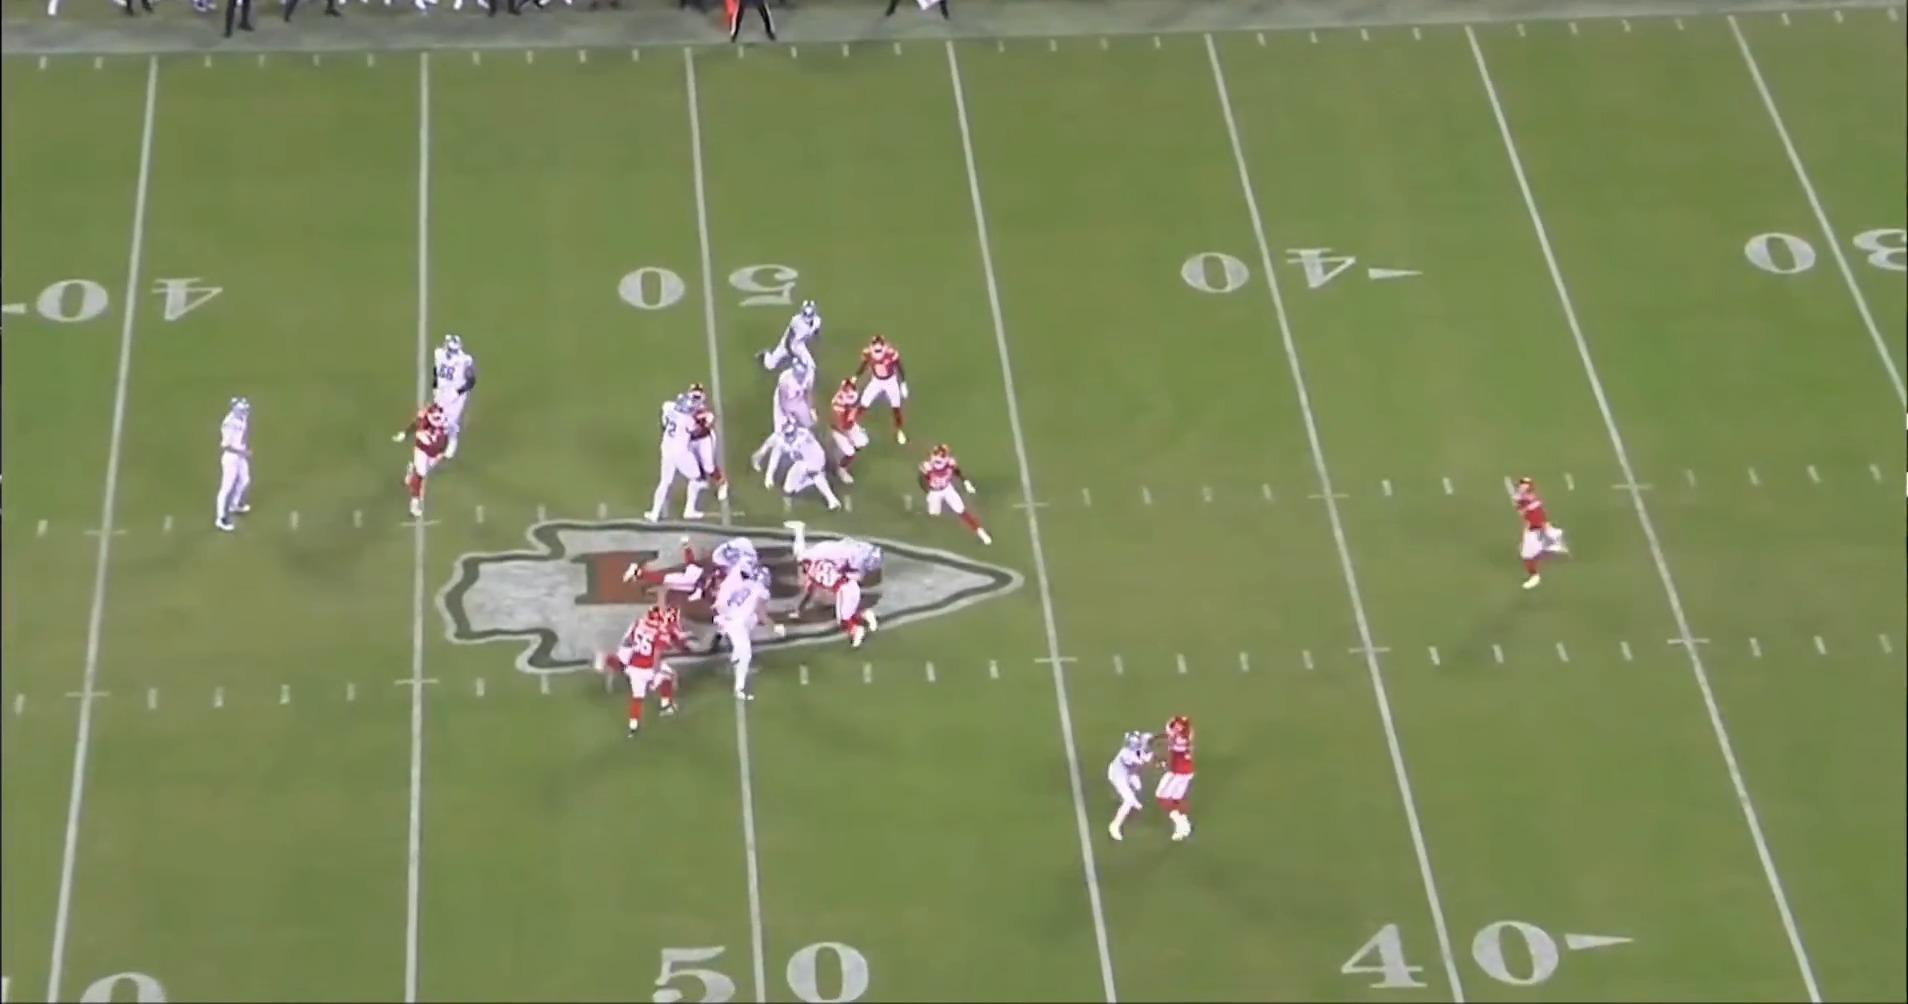player: (642, 395, 721, 531), (719, 561, 786, 707), (609, 614, 684, 739), (703, 535, 782, 652), (665, 383, 738, 505), (920, 441, 1002, 548), (1507, 470, 1573, 596), (769, 419, 846, 523), (750, 358, 819, 474), (1155, 711, 1214, 844), (203, 392, 255, 538), (842, 331, 906, 448), (1095, 726, 1157, 845), (398, 400, 455, 525), (823, 539, 884, 654), (592, 608, 699, 672), (429, 335, 484, 452), (627, 533, 719, 601), (754, 302, 827, 386), (823, 381, 870, 493), (788, 523, 884, 577), (717, 553, 762, 613)
ref: (724, 0, 791, 47)
